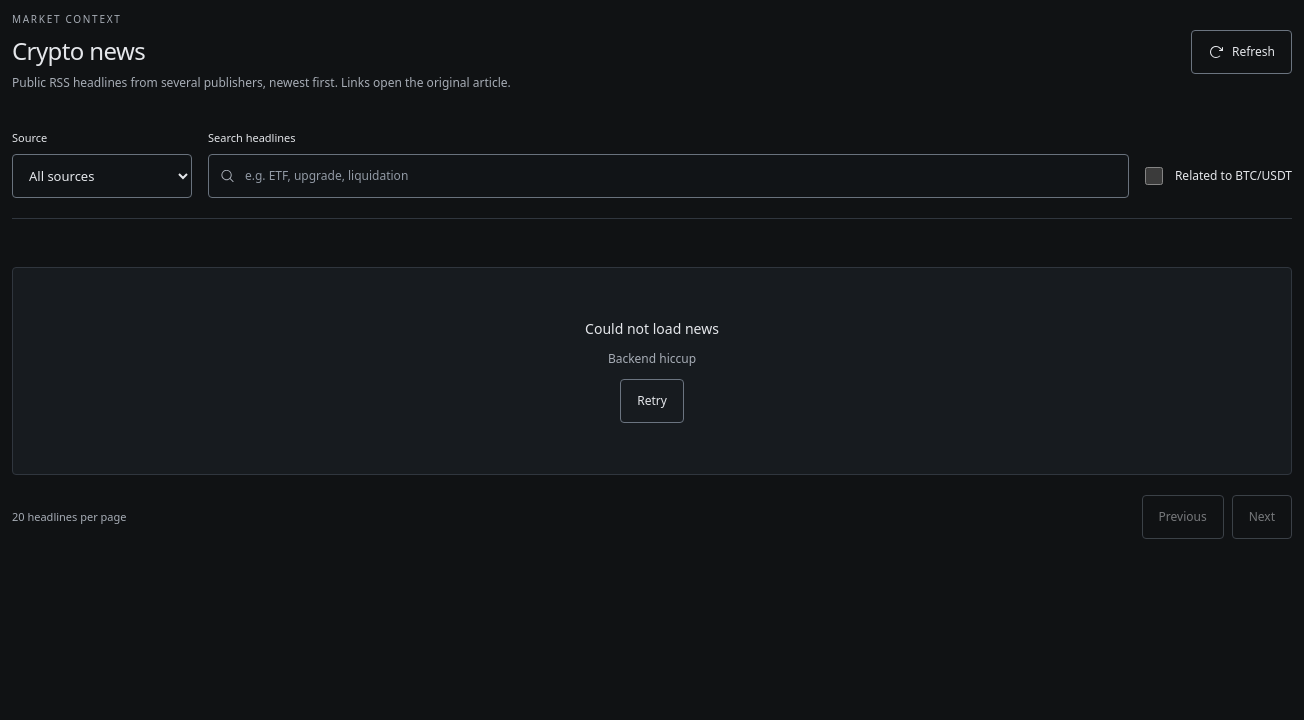
Test: shows error with retry, then recovers
Expected: the message "Could not load news Backend hiccup Retry" is shown, x1=12 y1=267 x2=1292 y2=475
Click the button "Retry" at coordinates (652, 401), box x1=620 y1=379 x2=684 y2=423
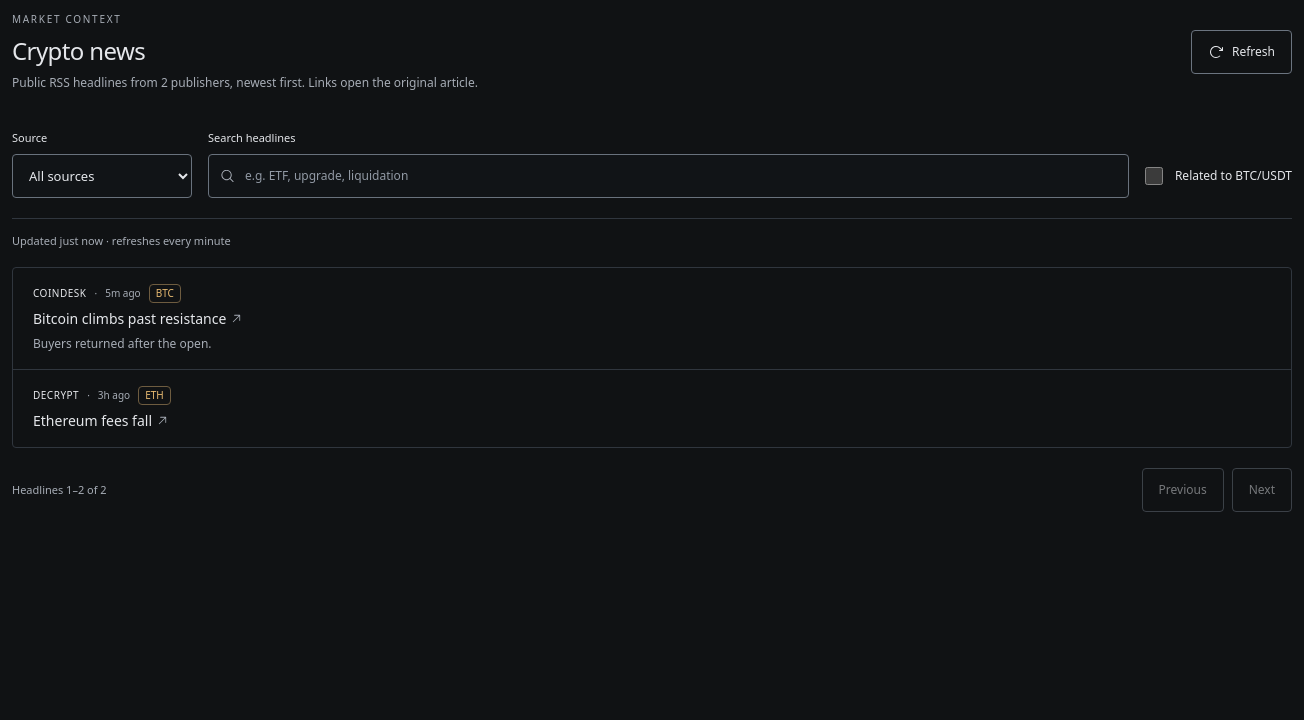
Expected: the link "Bitcoin climbs past resistance" is shown, x1=33 y1=309 x2=243 y2=328
